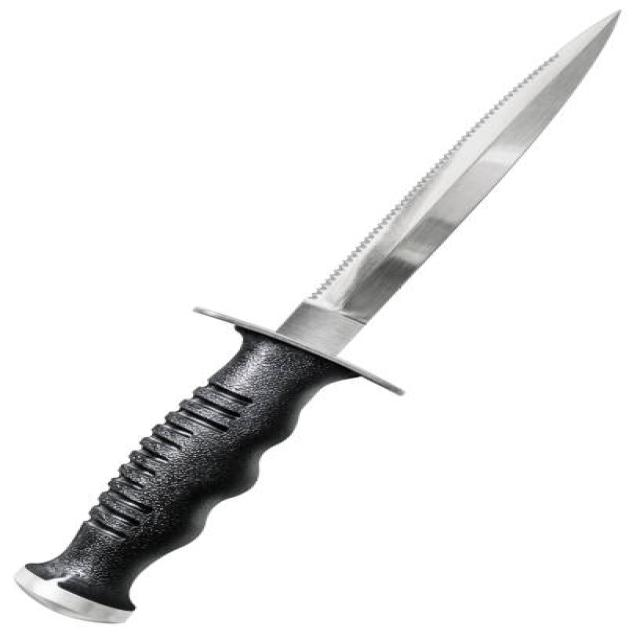knife: (17, 9, 622, 634)
